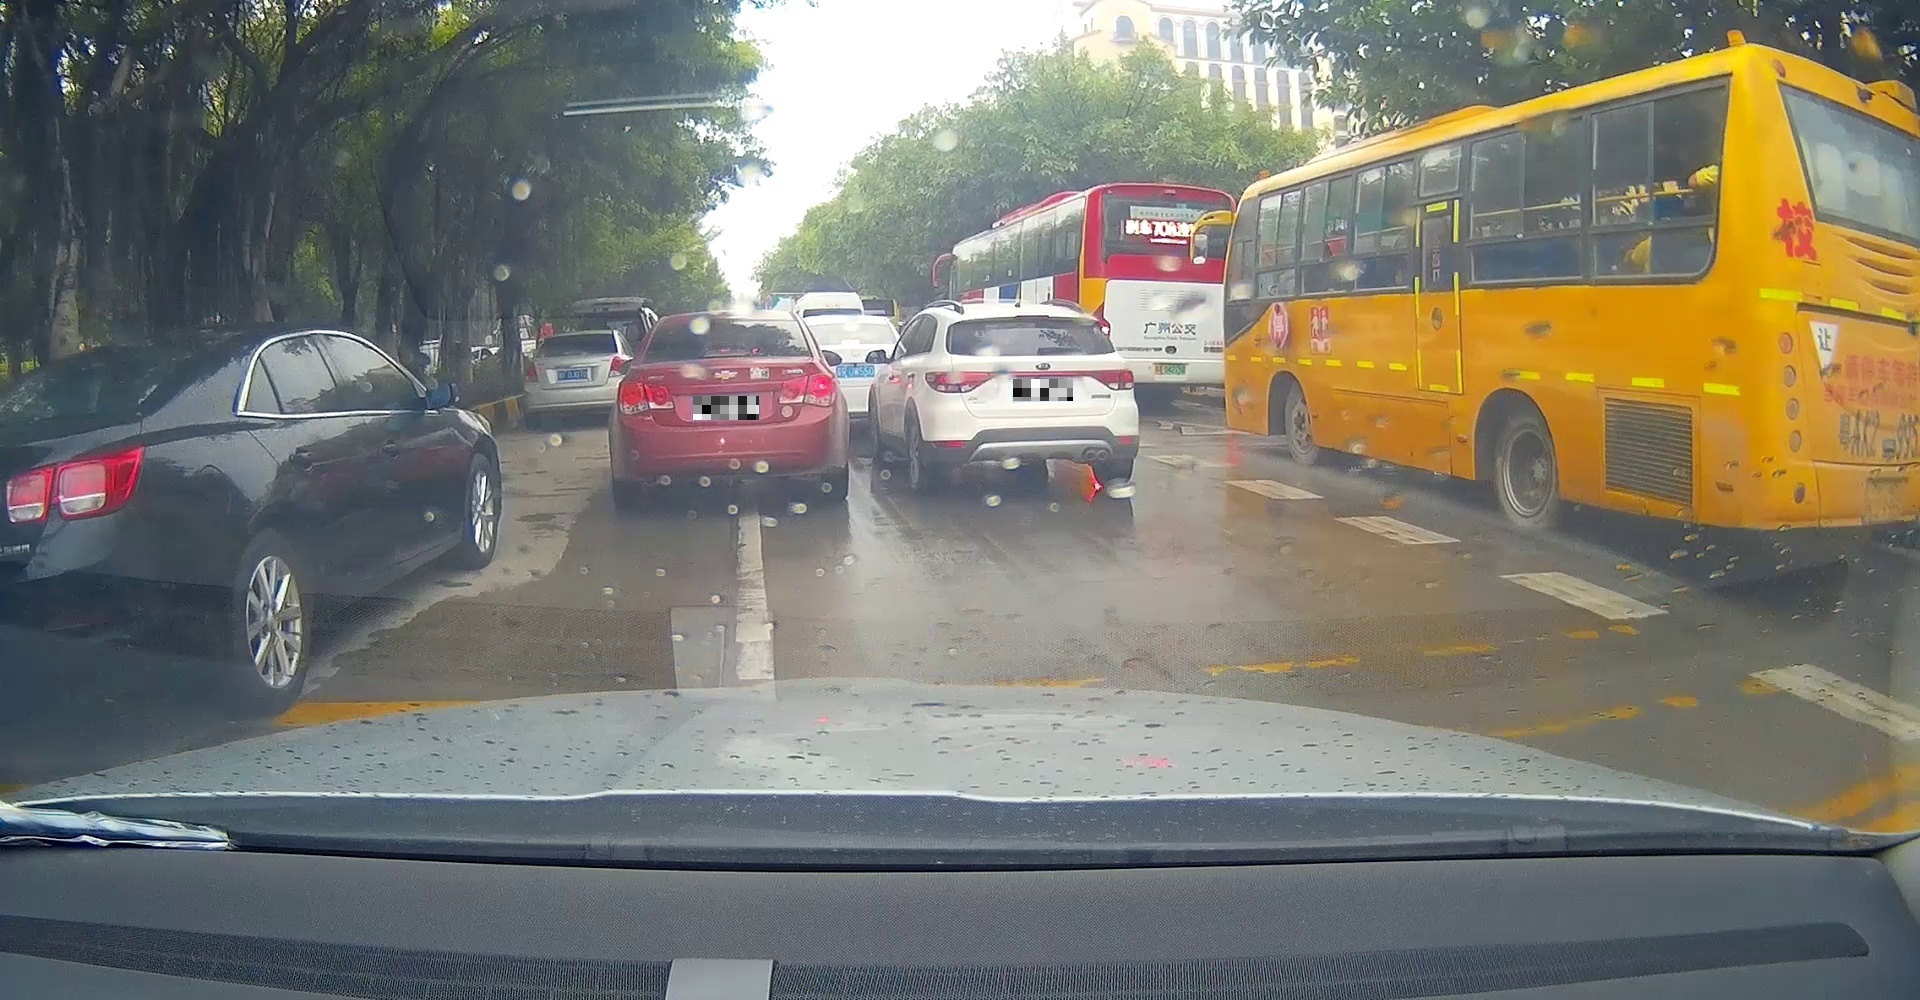L_light: (616, 381, 674, 415), (924, 371, 998, 393)
R_light: (777, 371, 837, 407), (1088, 369, 1135, 391)
T_light: (703, 348, 748, 358), (1015, 313, 1051, 322)
day-no: (606, 308, 848, 504), (919, 303, 1140, 492)
plate_1: (693, 396, 759, 420)
plate_2: (1013, 379, 1073, 401)
